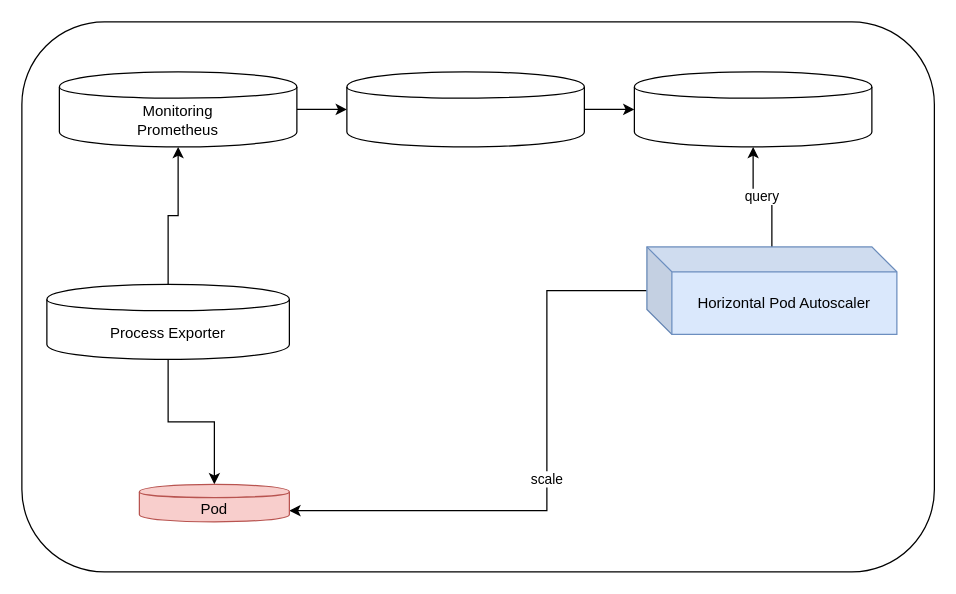
Some shapes in this 956 by 594 pixel diagram are drawn without their labels. The shapes that lost their labels are listed below. From the top down, each one's box as (x1, y1, x2, y2) in pixels, then its label:
(346, 71, 584, 147): Prometheus Adapter
(633, 71, 872, 147): Custom Metrics API
